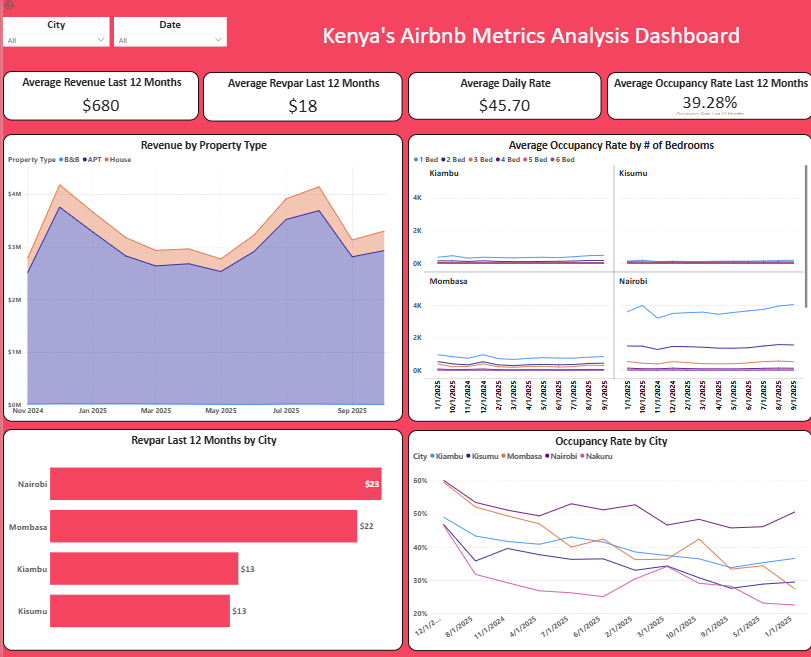

The page's visual inventory and layout, read from the dashboard file:
{"tool":"powerbi","page":{"name":"Kenya Airbnb Metrics Analysis","canvas":[2700,2200],"ordinal":2},"visuals":[{"type":"card","title":"Average Revenue Last 12 Months","fields":{"Values":["revenueAverage_last_12_month.Average Revenue Last 12 Months USD"]},"box":[0,238.8,653.1,165.3],"z":0},{"type":"card","title":"Average Revpar Last 12 Months","fields":{"Values":["revpar_last_12_month.Revpar Last 12 Months USD"]},"box":[667.3,244.9,665.3,165.3],"z":1000},{"type":"card","title":"Average Daily Rate","fields":{"Values":["rateByDailyAverage_last_12_month.Average Daily Rate USD"]},"box":[1351,244.9,644.9,159.2],"z":2000},{"type":"card","title":"Average Occupancy Rate Last 12 Months","fields":{"Values":["occupancy_last_12_month.Occupancy Rate Last 12 Months"]},"box":[2012.2,244.9,687.8,159.2],"z":3000},{"type":"stackedAreaChart","title":"Revenue by Property Type","fields":{"Category":["revenueByRealEstateType_last_12_month.Date"],"Y":["revenueByRealEstateType_last_12_month.B&B Revenue By Real Estate USD","revenueByRealEstateType_last_12_month.APT Revenue By Real Estate USD","revenueByRealEstateType_last_12_month.House Revenue By Real Estate USD"]},"box":[0,449,1332.7,959.2],"z":4000},{"type":"barChart","title":"Revpar Last 12 Months by  City","fields":{"Category":["revpar_last_12_month.City"],"Y":["revpar_last_12_month.Revpar Last 12 Months USD"]},"box":[0,1434.7,1332.7,738.8],"z":5000},{"type":"lineChart","title":"Average Occupancy Rate by # of Bedrooms","fields":{"Y":["Avg(occupancyBedrooms_last_12_month.1_bedroom)","Avg(occupancyBedrooms_last_12_month.2_bedroom)","Avg(occupancyBedrooms_last_12_month.3_bedroom)","Avg(occupancyBedrooms_last_12_month.4_bedroom)","Avg(occupancyBedrooms_last_12_month.5_bedroom)","Avg(occupancyBedrooms_last_12_month.6+_bedroom)"],"Category":["occupancyBedrooms_last_12_month.Date"],"Rows":["occupancyBedrooms_last_12_month.City"]},"box":[1351,449,1349,959.2],"z":6000},{"type":"lineChart","title":"Occupancy Rate by City","fields":{"Category":["occupancy_last_12_month.Date"],"Y":["occupancy_last_12_month.Occupancy Rate Last 12 Months"],"Series":["occupancy_last_12_month.City"]},"box":[1351,1436.7,1349,736.7],"z":7000},{"type":"slicer","title":"City","fields":{"Values":["occupancy_last_12_month.City"]},"box":[0,61.2,355.1,98],"z":8000},{"type":"slicer","title":"Date","fields":{"Values":["occupancy_last_12_month.Date"]},"box":[369.4,61.2,375.5,98],"z":9000},{"type":"actionButton","box":[0,0,100,40],"z":10000},{"type":"textbox","title":"Kenya''s Airbnb Metrics Analysis Dashboard","box":[818.4,69.4,1881.6,144.9],"z":11000}]}

Visuals, with their boxes in screenshot pixels (x1, y1, x2, y2), scaled from the page's 2700x2200 canvas onto the 811x657 screenshot:
"Average Revenue Last 12 Months" card: box(0, 71, 196, 121)
"Average Revpar Last 12 Months" card: box(200, 73, 400, 123)
"Average Daily Rate" card: box(406, 73, 600, 121)
"Average Occupancy Rate Last 12 Months" card: box(604, 73, 810, 121)
"Revenue by Property Type" stackedAreaChart: box(0, 134, 400, 421)
"Revpar Last 12 Months by  City" barChart: box(0, 428, 400, 649)
"Average Occupancy Rate by # of Bedrooms" lineChart: box(406, 134, 810, 421)
"Occupancy Rate by City" lineChart: box(406, 429, 810, 649)
"City" slicer: box(0, 18, 107, 48)
"Date" slicer: box(111, 18, 224, 48)
actionButton: box(0, 0, 30, 12)
"Kenya''s Airbnb Metrics Analysis Dashboard" textbox: box(246, 21, 810, 64)
